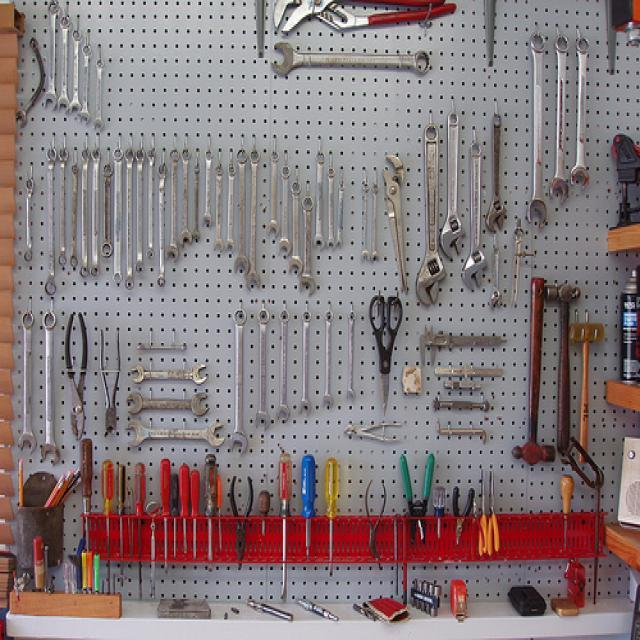hammer: (508, 276, 559, 468), (544, 276, 585, 468), (566, 315, 608, 463)
pliers: (272, 0, 462, 35), (394, 446, 440, 551), (62, 306, 92, 443), (92, 322, 126, 442), (228, 468, 255, 577), (444, 482, 479, 554), (336, 421, 411, 454), (483, 457, 506, 558)
screwdriver: (274, 446, 298, 607), (132, 456, 152, 612), (319, 454, 342, 580), (552, 473, 583, 557), (298, 452, 320, 568), (75, 438, 96, 558), (199, 454, 219, 570), (111, 458, 131, 573), (101, 457, 118, 591), (158, 457, 174, 578), (188, 466, 204, 568), (168, 467, 182, 572), (255, 486, 275, 550), (213, 467, 227, 552), (180, 464, 192, 560)
wrench: (264, 38, 436, 92), (416, 110, 444, 314), (566, 28, 599, 201), (460, 127, 492, 300), (525, 20, 551, 232), (483, 107, 518, 243), (378, 138, 409, 289), (224, 308, 254, 464), (440, 91, 466, 267), (547, 26, 571, 210), (38, 308, 62, 466), (122, 419, 231, 451), (16, 308, 38, 458), (250, 308, 274, 438), (40, 142, 60, 296), (243, 144, 264, 290), (108, 142, 128, 290), (38, 0, 62, 117), (162, 144, 185, 266), (74, 142, 93, 286), (272, 305, 294, 428), (96, 158, 120, 267), (232, 145, 251, 279), (339, 310, 364, 410), (152, 154, 170, 292), (86, 143, 104, 280), (128, 389, 214, 417), (140, 140, 159, 262), (131, 144, 148, 278), (259, 146, 283, 240), (320, 301, 340, 412), (174, 141, 194, 249), (131, 362, 216, 387), (54, 11, 74, 116), (66, 156, 83, 277), (21, 162, 39, 276), (286, 172, 304, 282), (333, 161, 353, 256), (354, 167, 372, 272), (220, 160, 239, 258), (55, 142, 69, 274), (76, 37, 95, 132), (188, 150, 206, 249), (297, 307, 313, 417), (312, 147, 328, 256), (89, 55, 110, 136), (66, 26, 84, 120), (123, 142, 134, 294), (200, 145, 218, 235), (211, 157, 226, 254), (301, 192, 314, 302), (324, 156, 338, 258), (278, 160, 291, 264), (126, 341, 196, 358)
